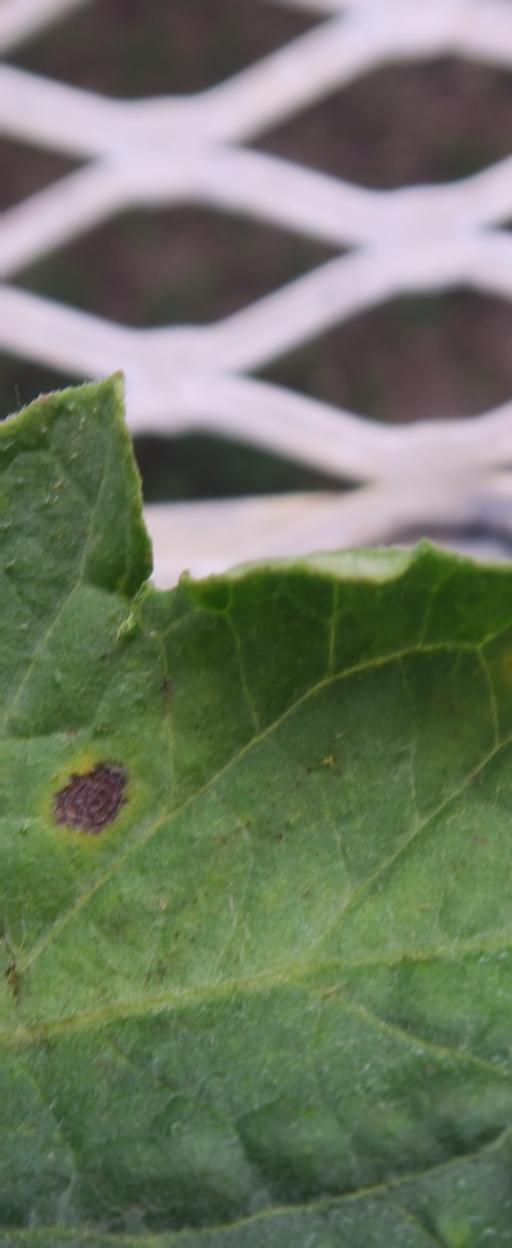Tomato Early blight leaf: (0, 395, 512, 1248)
